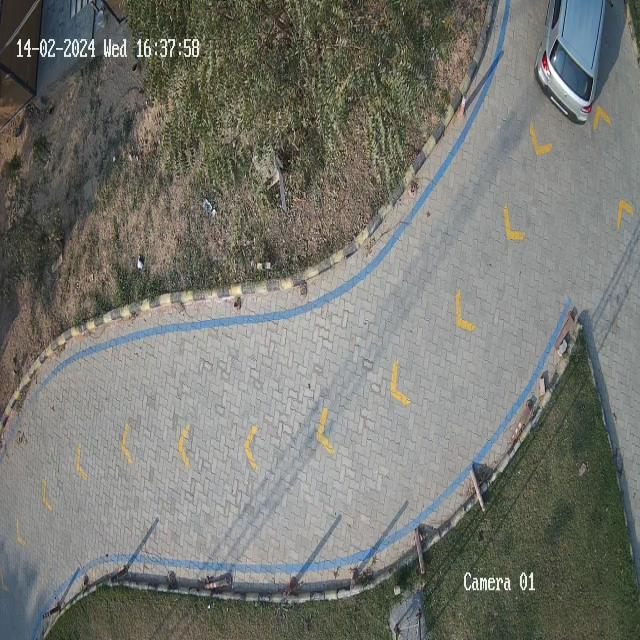car: (537, 0, 605, 124)
